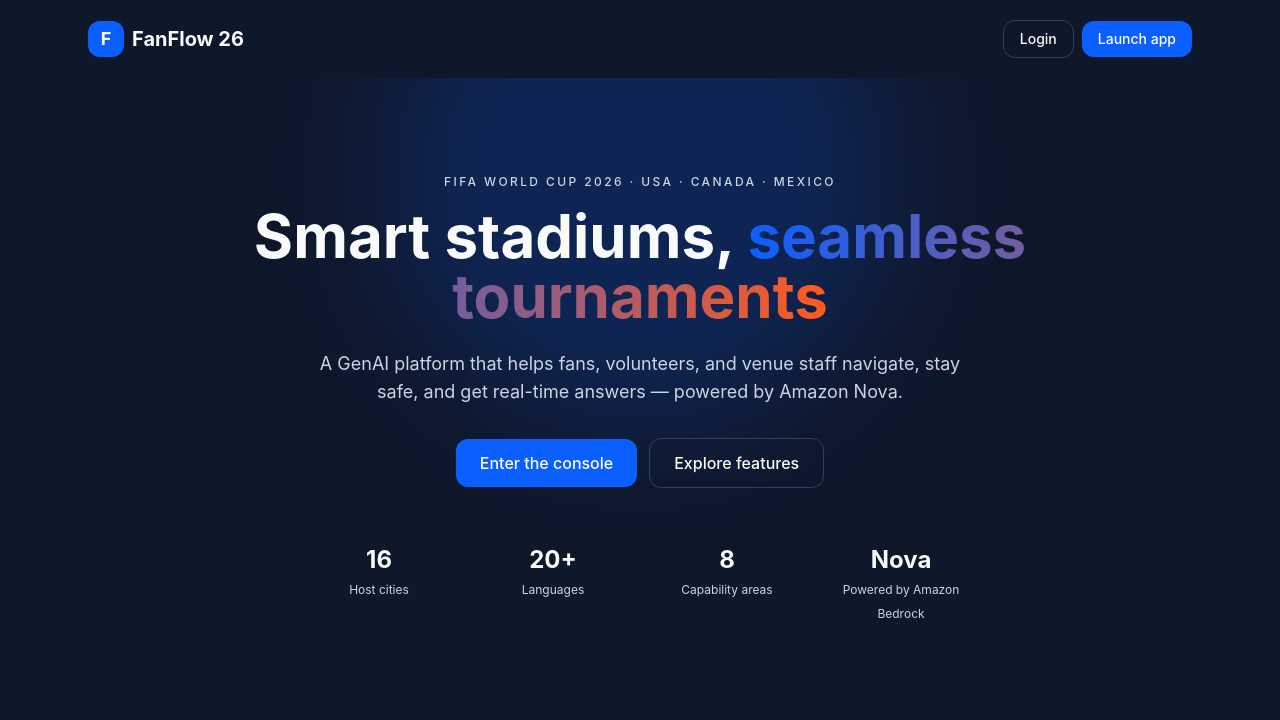
Test: end-to-end flow: landing → login → dashboard › launches the console as a guest without logging in
Click the button "Launch app" at (1137,39), box [1082, 21, 1192, 57]
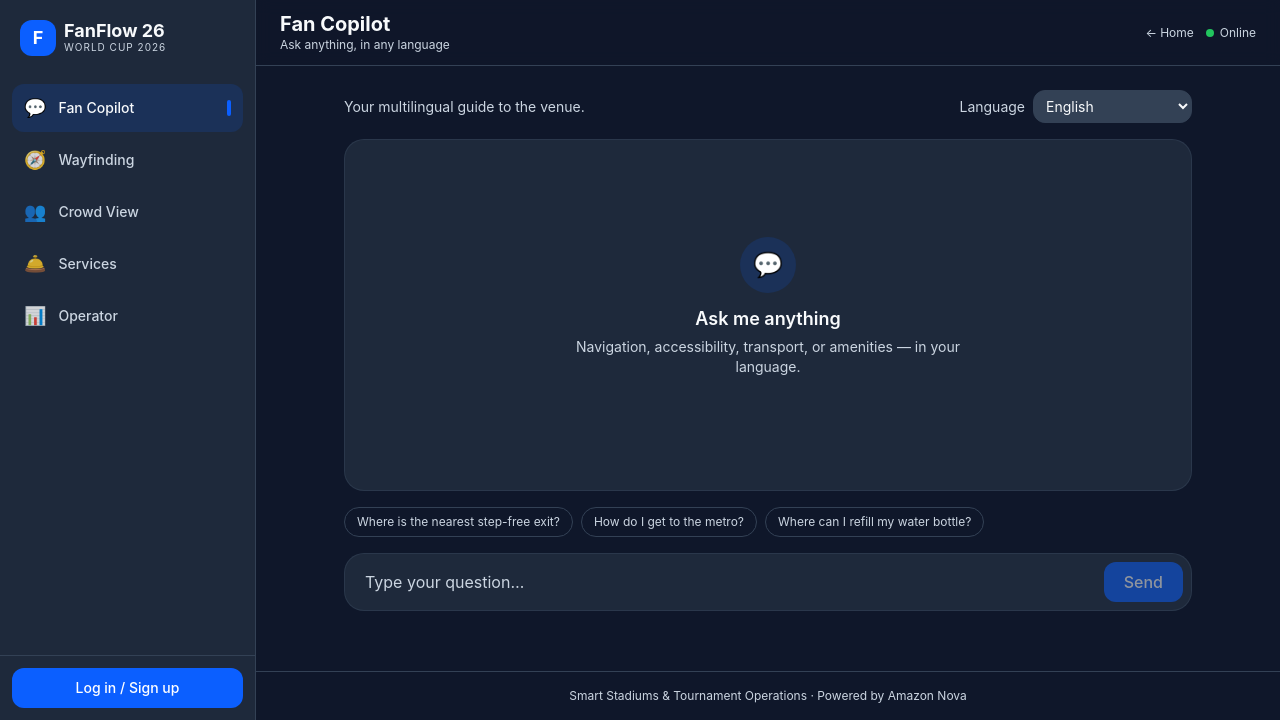
Expected: the navigation bar named "primary" is shown, [12, 84, 243, 340]
Expected: the button "💬 Fan Copilot" is shown, [12, 84, 243, 132]
